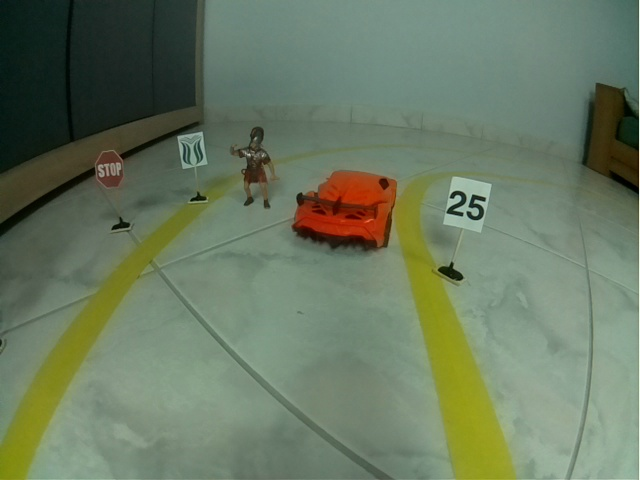Lambo: (291, 169, 398, 252)
Person: (230, 126, 281, 210)
Speed Limit 25: (444, 176, 493, 234)
Stop: (95, 150, 125, 190)
Subu: (177, 131, 209, 170)
